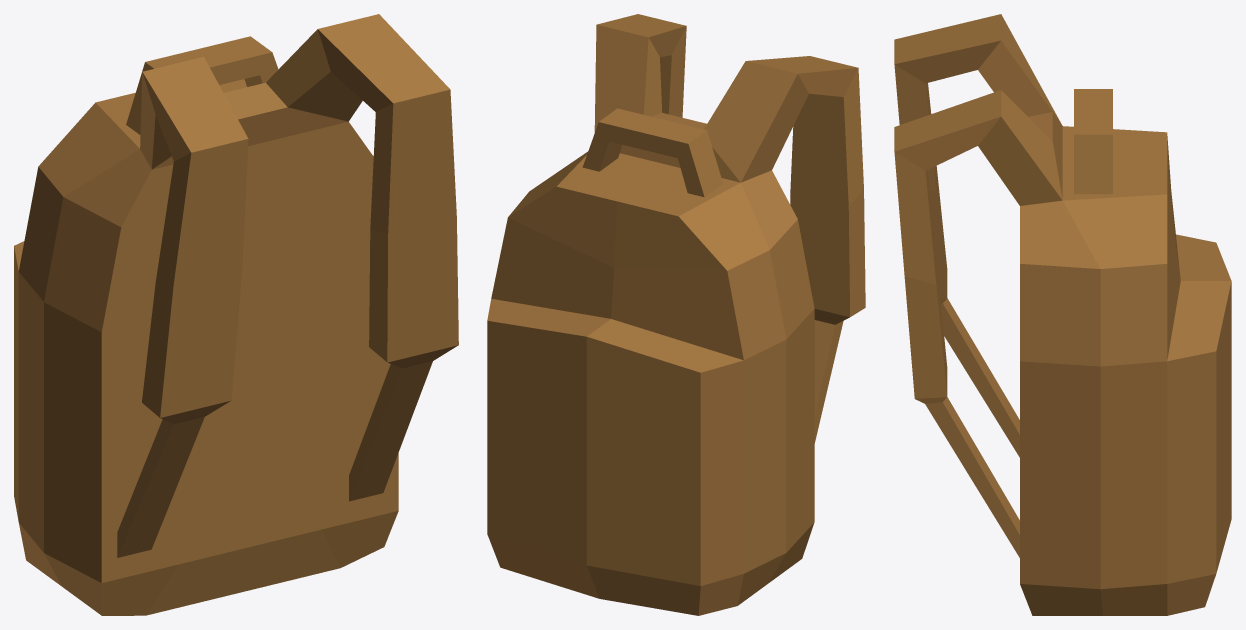
Rendered from survival-bag.glb.
The picture shows the model from 3 angles, left to right: view 1: azimuth 30°, elevation 25°; view 2: azimuth 150°, elevation 25°; view 3: azimuth 270°, elevation 25°; orthographic projection. The views are drawn at different scales.
Visible parts, largest first — view 1: bag; view 2: bag; view 3: bag.
Part boxes in pixels (bbox=[...]): bag: bbox=[14, 14, 458, 615]; bag: bbox=[487, 14, 865, 615]; bag: bbox=[894, 14, 1231, 615].
Bounding box in the file's own units: 0.3357 × 0.5602 × 0.3431.
